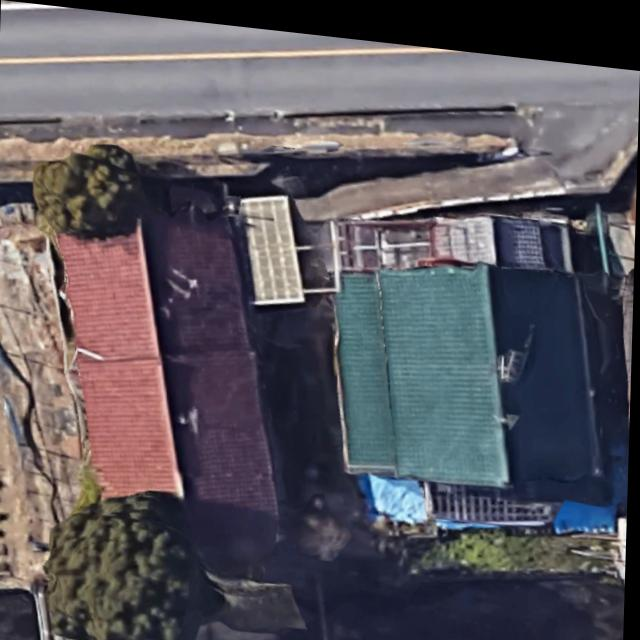Batiment: (58, 202, 280, 571), (336, 253, 629, 492)
